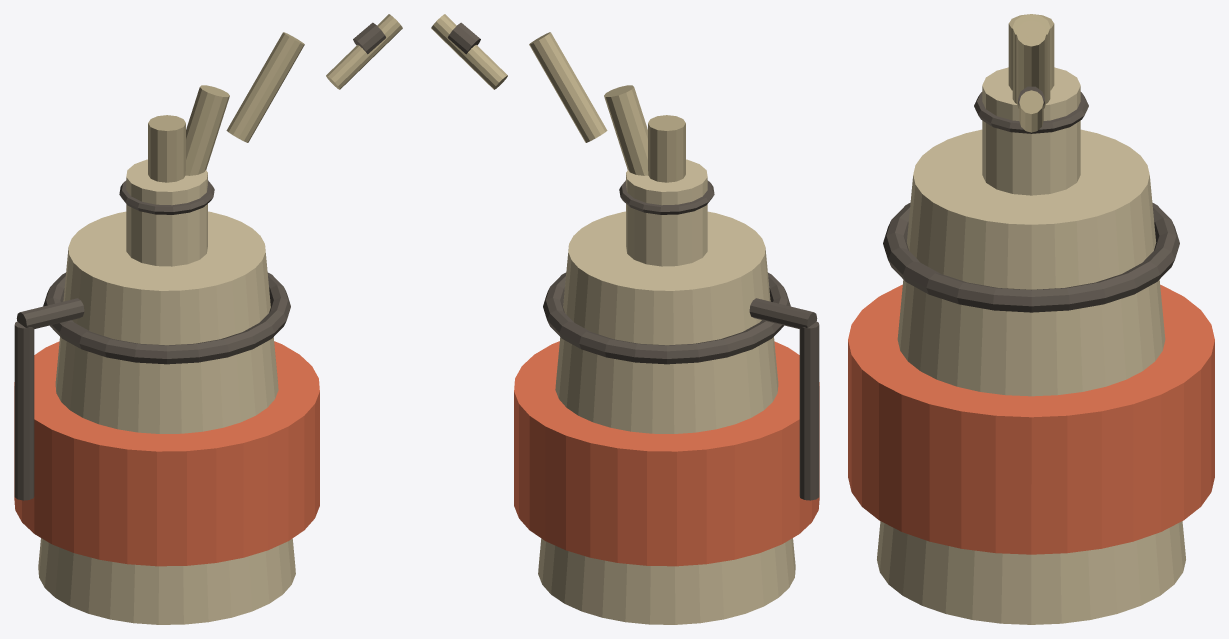
Rendered from oil_can.fbx.
The picture shows the model from 3 angles, left to right: view 1: azimuth 30°, elevation 25°; view 2: azimuth 150°, elevation 25°; view 3: azimuth 270°, elevation 25°; orthographic projection. The views are drawn at different scales.
Parts seen in each view (by area): view 1: Oil Can; view 2: Oil Can; view 3: Oil Can.
Boxes of the visible parts, x1=… form: Oil Can: x1=14, y1=14, x2=402, y2=624; Oil Can: x1=431, y1=14, x2=819, y2=624; Oil Can: x1=848, y1=14, x2=1214, y2=624.
Bounding box in the file's own units: 70.17 × 94.02 × 48.4.
